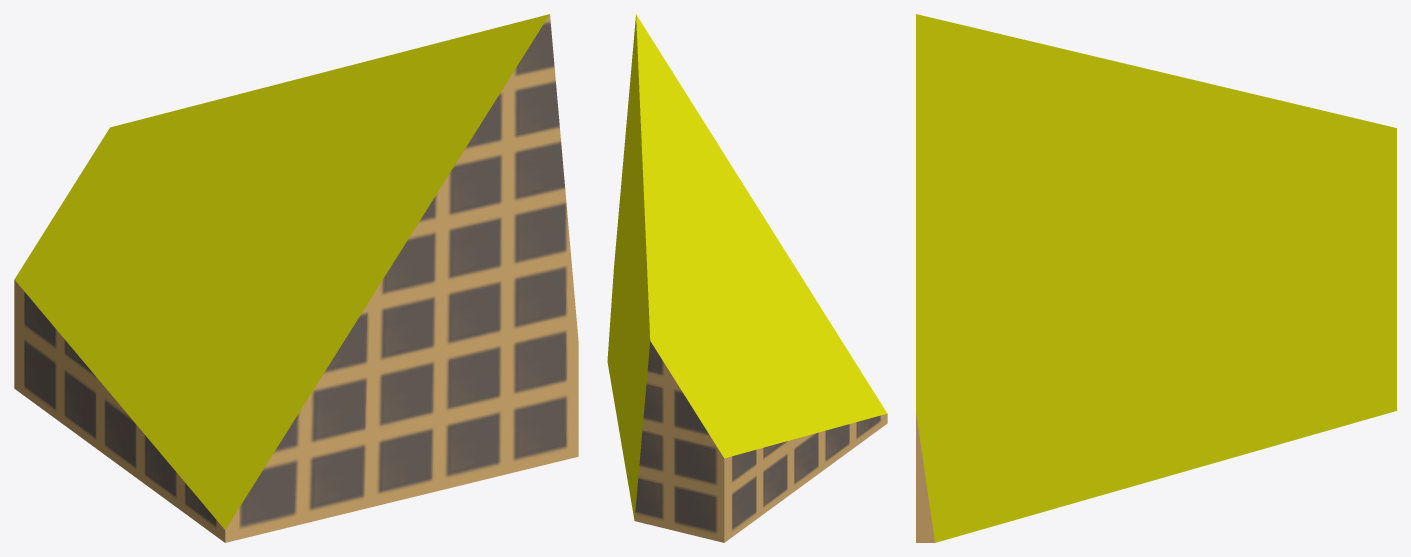
The model's file is ST2Shard6.fbx.
3 views of the same model, side by side, from view 1: azimuth 30°, elevation 25°; view 2: azimuth 150°, elevation 25°; view 3: azimuth 270°, elevation 25° (orthographic). The views are drawn at different scales.
Visible parts, largest first — view 1: shard5; view 2: shard5; view 3: shard5.
Part boxes in pixels (bbox=[...]): shard5: bbox=[14, 14, 578, 542]; shard5: bbox=[607, 14, 887, 542]; shard5: bbox=[916, 14, 1396, 542].
Size of the model in its own units: 0.0992 by 0.1206 by 0.1025.
Materials: 2 (1 with a texture image).
